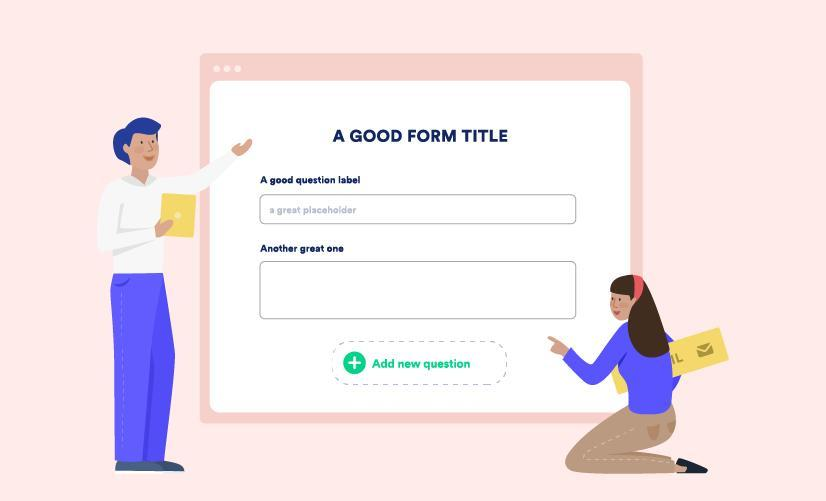button: (331, 342, 508, 387)
input: (261, 197, 580, 225)
label: (332, 113, 519, 151), (257, 172, 363, 189), (257, 239, 347, 255)
